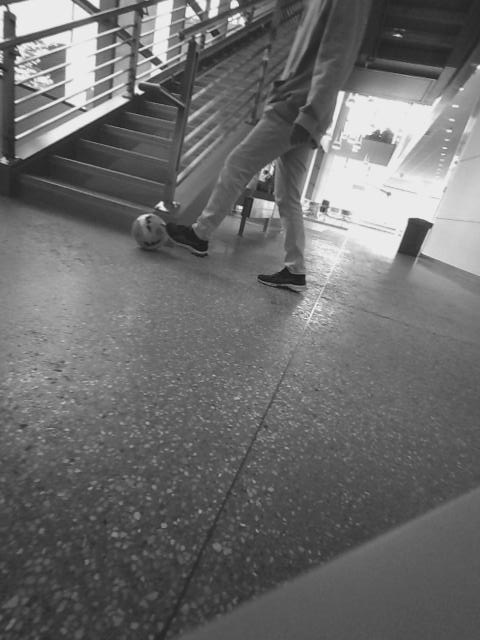ball: (230, 247, 279, 295)
